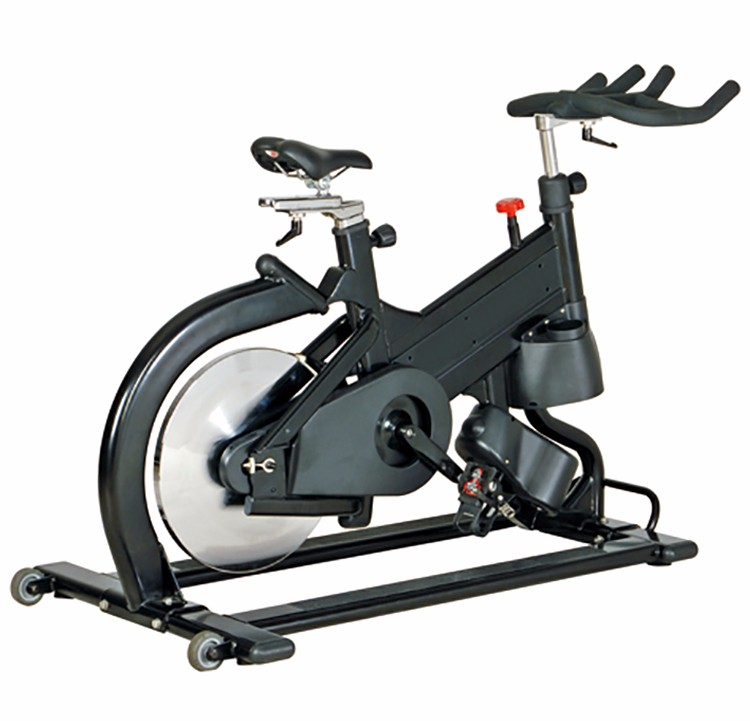gym_bike: (5, 74, 743, 663)
